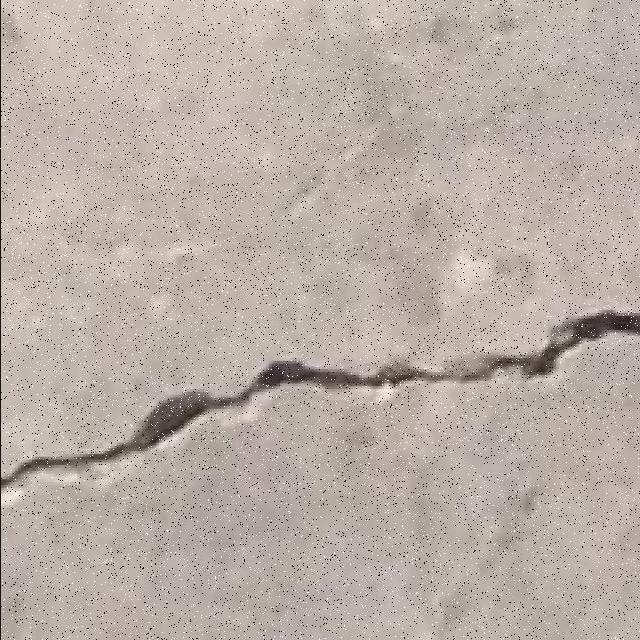crack: (2, 309, 638, 488)
